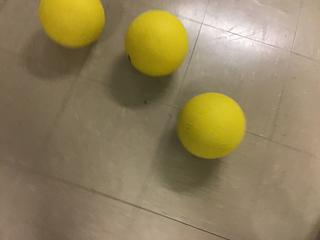power_cell: (171, 77, 254, 159), (124, 6, 189, 80)
